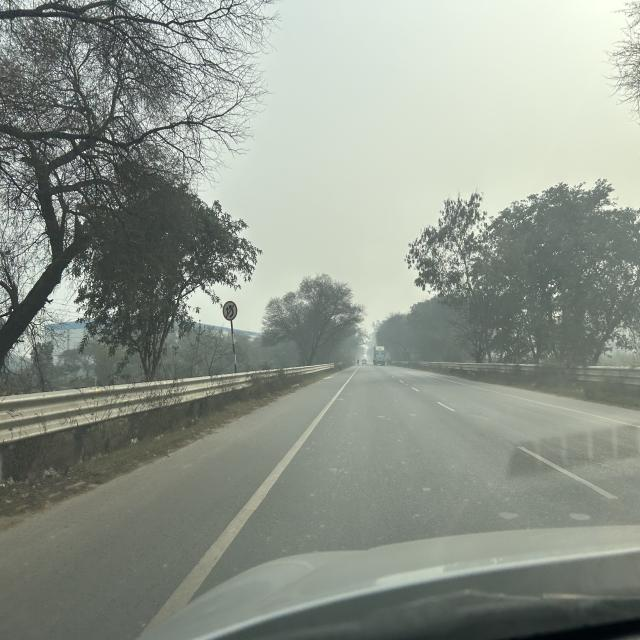OVERTAKING_PROHIBITED: (222, 300, 238, 320)
